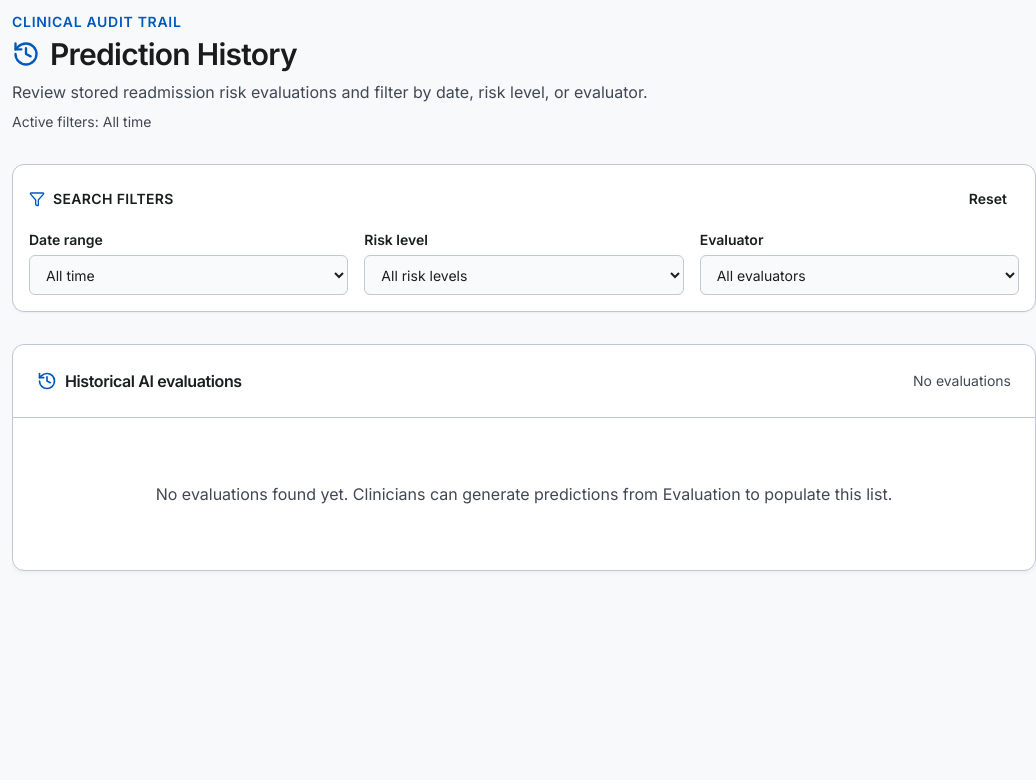
HistoryPage › shows filtered empty state when filters return no rows
The image size is (1036, 780).
Select "High risk" in the dropdown named "risk level filter" at (524, 275), box [364,255,684,295]
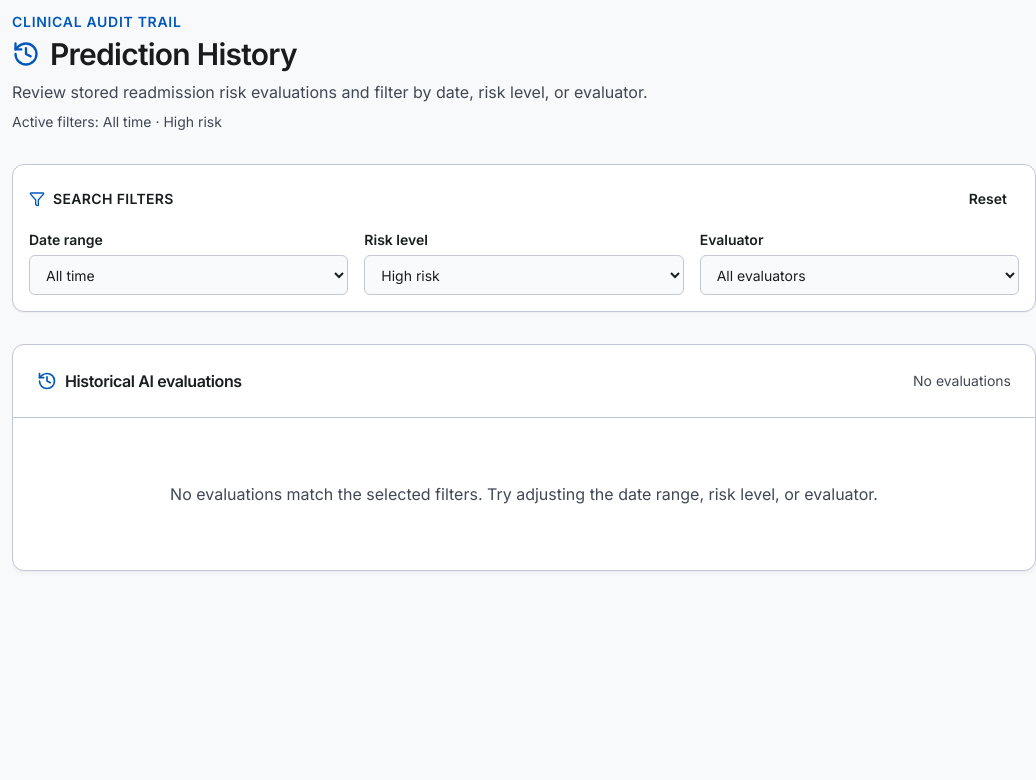
Now the text "No evaluations match the selected filters" is shown, box [170,484,878,504]
